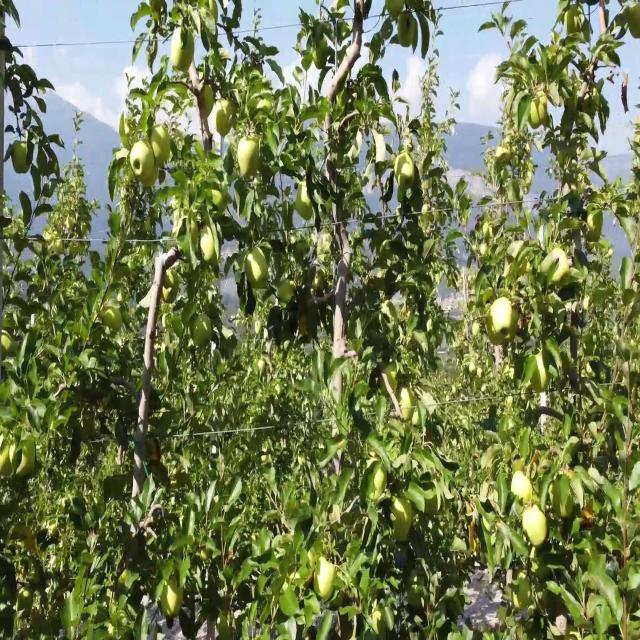apple: (488, 298, 520, 348), (132, 142, 158, 190), (172, 28, 196, 75), (392, 497, 415, 544), (524, 504, 548, 548), (248, 248, 269, 292), (548, 248, 570, 290), (240, 142, 262, 183), (152, 127, 172, 169), (316, 561, 336, 603), (396, 156, 418, 194), (396, 14, 419, 50), (552, 483, 575, 519), (528, 92, 549, 130), (512, 575, 533, 612), (192, 312, 212, 350), (200, 227, 220, 265), (532, 355, 551, 395), (512, 476, 533, 510), (208, 184, 229, 217), (12, 142, 31, 178), (216, 99, 234, 137), (296, 184, 314, 220), (140, 163, 160, 192), (200, 85, 216, 121), (104, 305, 123, 334), (400, 391, 417, 421), (164, 270, 178, 306), (588, 213, 604, 244), (509, 305, 521, 343), (580, 497, 595, 526), (40, 149, 55, 178), (628, 7, 640, 41), (188, 220, 200, 254), (164, 263, 178, 292), (480, 284, 496, 306), (280, 284, 295, 306), (568, 14, 582, 37), (540, 99, 551, 128), (372, 611, 384, 636), (164, 286, 178, 306), (512, 455, 525, 475), (316, 49, 327, 71), (496, 149, 509, 167), (300, 319, 311, 340), (388, 7, 404, 21), (472, 526, 480, 553), (304, 49, 313, 71), (44, 227, 55, 244), (500, 149, 511, 165), (80, 220, 90, 236), (64, 220, 76, 233), (56, 241, 65, 256)
